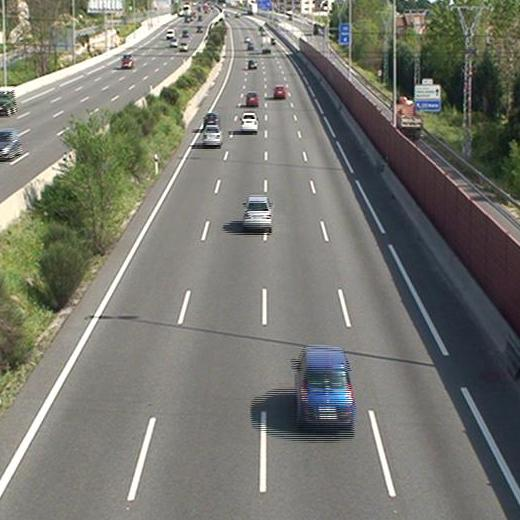car: (295, 346, 353, 427), (242, 197, 271, 227), (203, 126, 221, 145), (240, 113, 257, 130), (203, 113, 219, 127), (245, 92, 258, 106), (274, 85, 284, 97), (247, 59, 256, 68)
